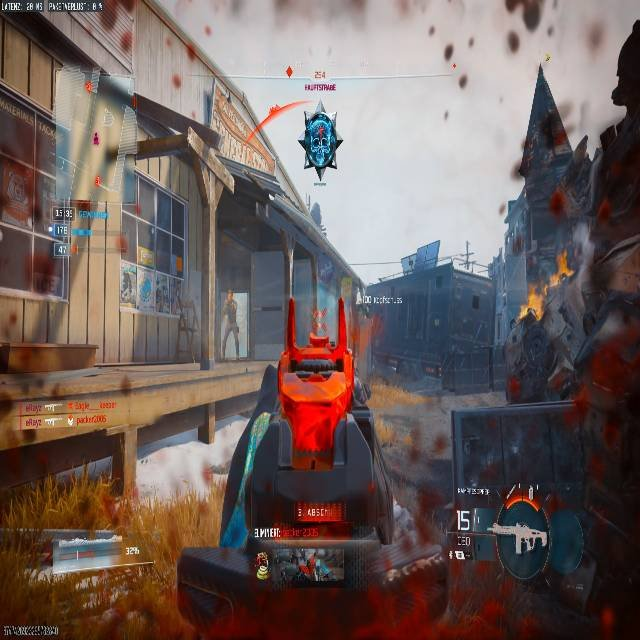player: (299, 111, 342, 185)
